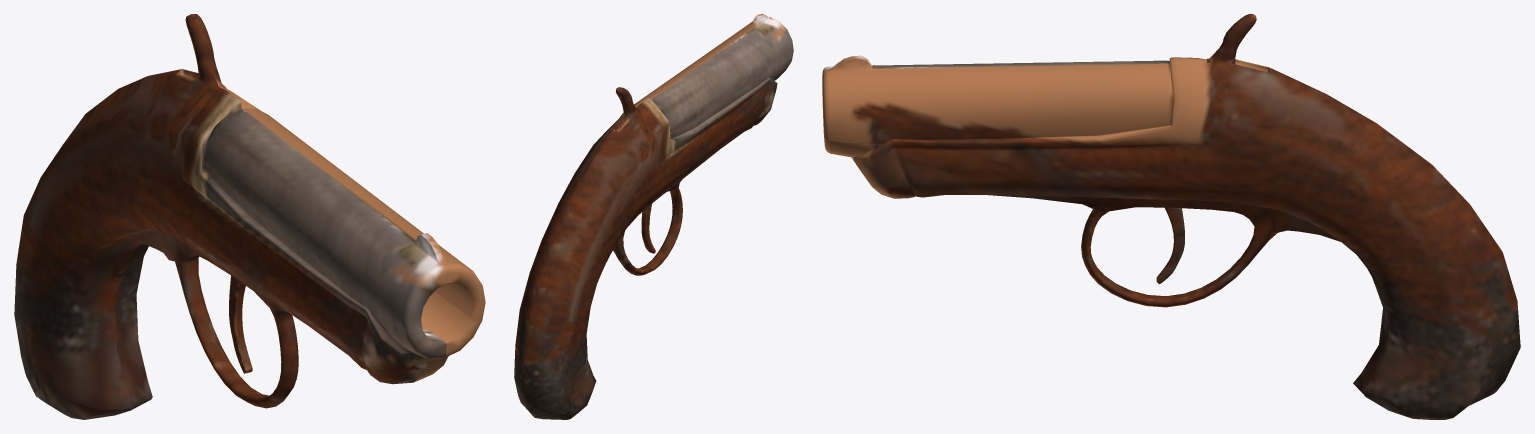
The model's file is gun04.fbx.
3 views of the same model, side by side, from view 1: azimuth 30°, elevation 25°; view 2: azimuth 150°, elevation 25°; view 3: azimuth 270°, elevation 25° (orthographic). The views are drawn at different scales.
Parts seen in each view (by area): view 1: gun04; view 2: gun04; view 3: gun04.
Part boxes in pixels (bbox=[...]): gun04: bbox=[14, 14, 485, 419]; gun04: bbox=[514, 14, 793, 419]; gun04: bbox=[822, 14, 1520, 419].
Bounding box in the file's own units: 2.57 × 14.2 × 22.65.
Materials: 1 (1 with a texture image).
